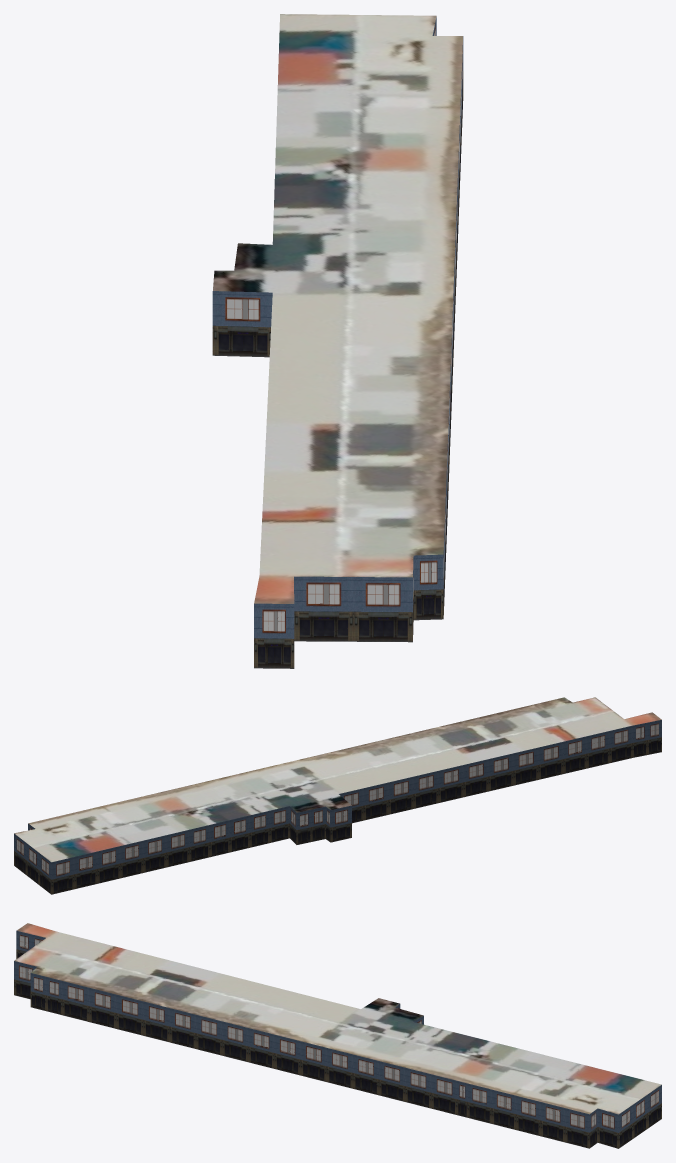
3 renders of one model, top to bottom at view 1: azimuth 30°, elevation 25°; view 2: azimuth 150°, elevation 25°; view 3: azimuth 270°, elevation 25°, orthographic. The views are drawn at different scales.
Visible parts, largest first — view 1: SketchUp (×9); view 2: SketchUp (×19); view 3: SketchUp (×17).
Boxes of the visible parts, <box> form: SketchUp (×9): <box>212,14,462,668</box>; SketchUp (×19): <box>14,697,661,894</box>; SketchUp (×17): <box>14,923,661,1148</box>.
Size of the model in its own units: 85.04 by 122 by 7.12.
Materials: 3 (3 with a texture image).
